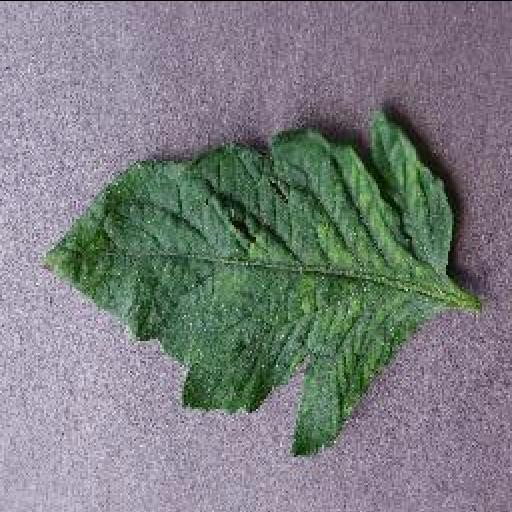disease_tomato: (38, 110, 452, 454)
